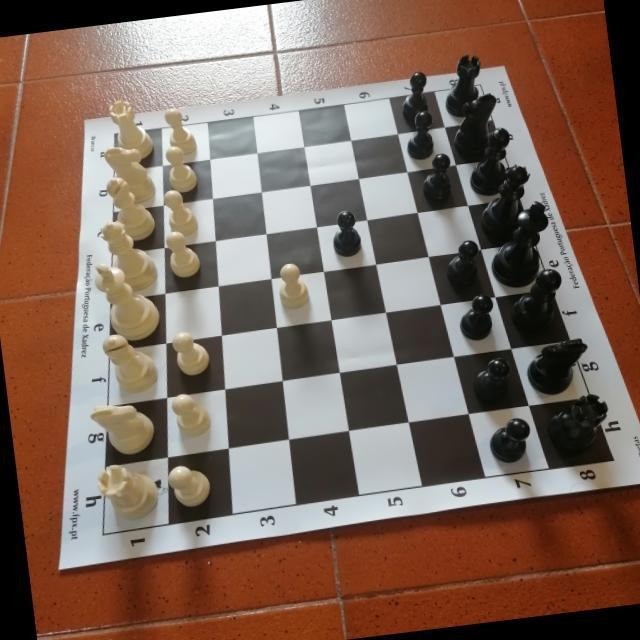black-bishop: (504, 265, 567, 334), (462, 125, 517, 199)
black-knight: (523, 337, 593, 399), (448, 91, 504, 160)
black-pawn: (485, 414, 534, 465), (469, 355, 515, 405), (456, 292, 498, 344), (442, 237, 483, 288), (402, 108, 438, 161), (418, 150, 455, 201), (396, 69, 431, 122), (329, 207, 363, 258)
black-queen: (473, 161, 539, 243)
black-rook: (542, 391, 613, 457), (438, 51, 487, 120)
white-bishop: (99, 328, 160, 396), (105, 172, 157, 244)
white-king: (91, 255, 163, 345)
white-knight: (88, 398, 158, 460), (102, 141, 158, 207)
white-pawn: (165, 462, 213, 510), (169, 389, 213, 439), (169, 328, 211, 378), (163, 228, 202, 280), (161, 186, 200, 238), (164, 142, 200, 194), (162, 105, 198, 157), (274, 261, 310, 311)
white-queen: (97, 214, 159, 295)
white-rook: (94, 458, 162, 525), (107, 96, 156, 164)
